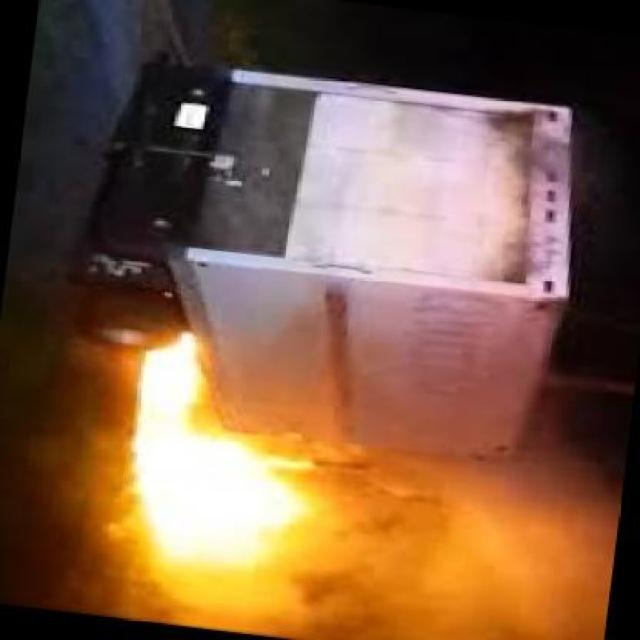Fire: (110, 319, 314, 581)
Smoke: (327, 453, 640, 631)
